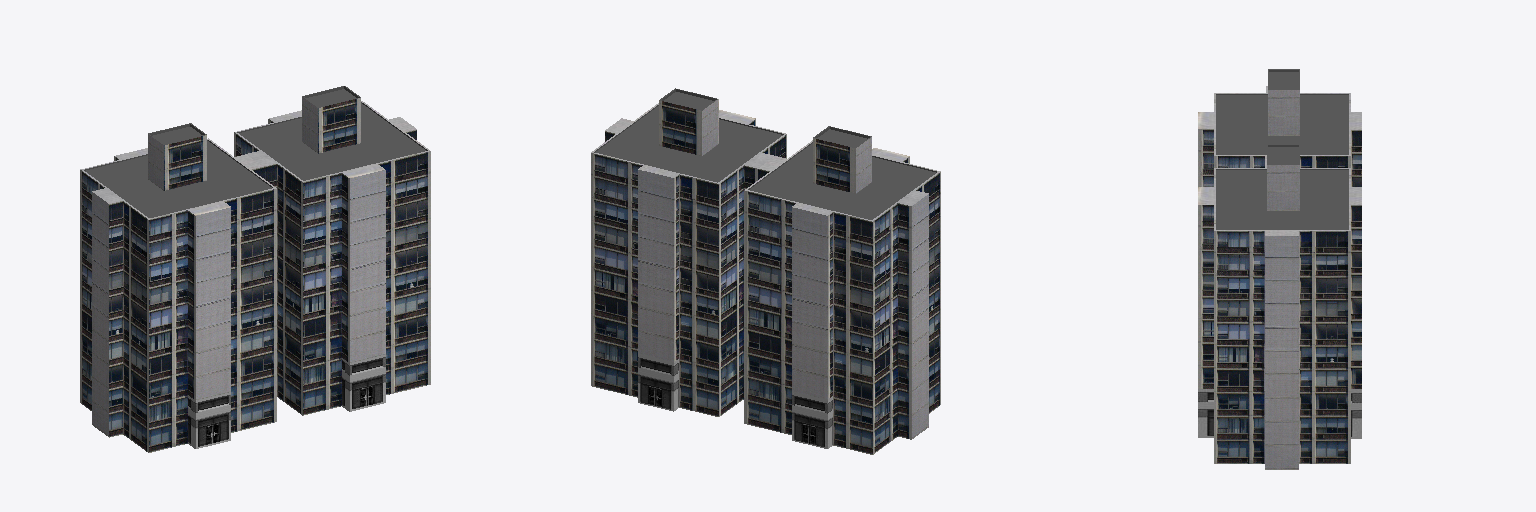
The picture shows the model from 3 angles: view 1: azimuth 30°, elevation 25°; view 2: azimuth 150°, elevation 25°; view 3: azimuth 270°, elevation 25°; orthographic projection.
Visible parts, largest first — view 1: hotel2_EDIFICIOS-PARQUE.004; view 2: hotel2_EDIFICIOS-PARQUE.004; view 3: hotel2_EDIFICIOS-PARQUE.004.
Part boxes in pixels (left/top/right/bottom): hotel2_EDIFICIOS-PARQUE.004: left=80, top=86, right=430, bottom=452; hotel2_EDIFICIOS-PARQUE.004: left=591, top=88, right=940, bottom=454; hotel2_EDIFICIOS-PARQUE.004: left=1198, top=69, right=1361, bottom=469.
Size of the model in its own units: 56.62 by 48.84 by 26.08.
Materials: 6 (4 with a texture image).